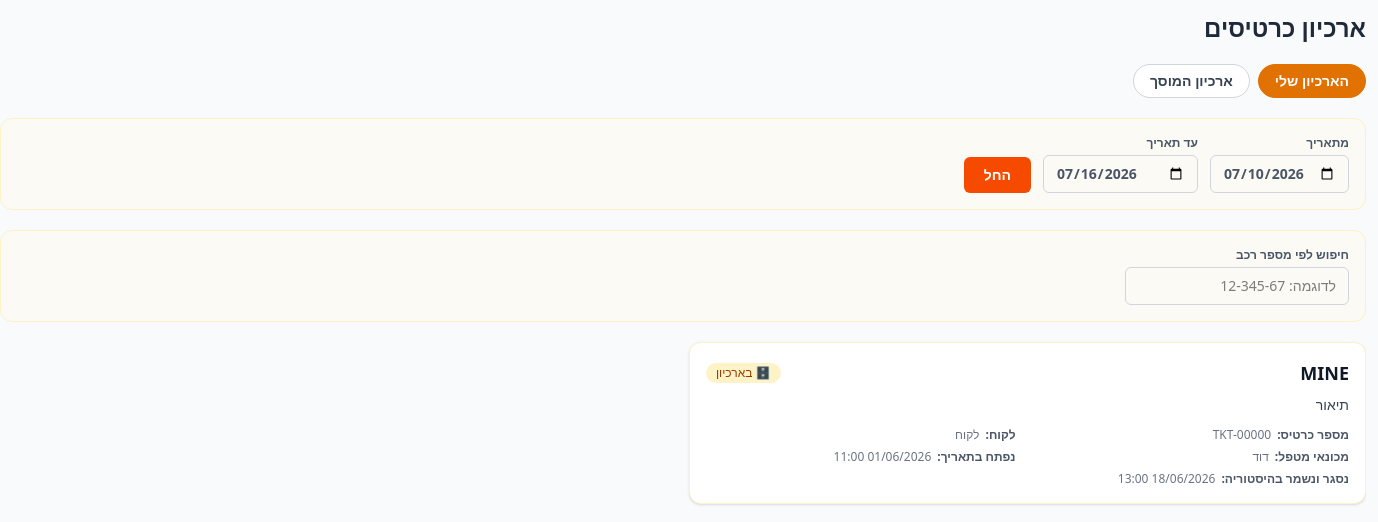
Scenario: MyTicketsPage — role scoping › Manager can switch to the garage archive to see all archived tickets
This screenshot has width=1378, height=522.
Expected: the text "MINE" is shown, [1300,359,1349,387]
Click the tab "ארכיון המוסך": (1191, 81) [1133,64,1250,98]
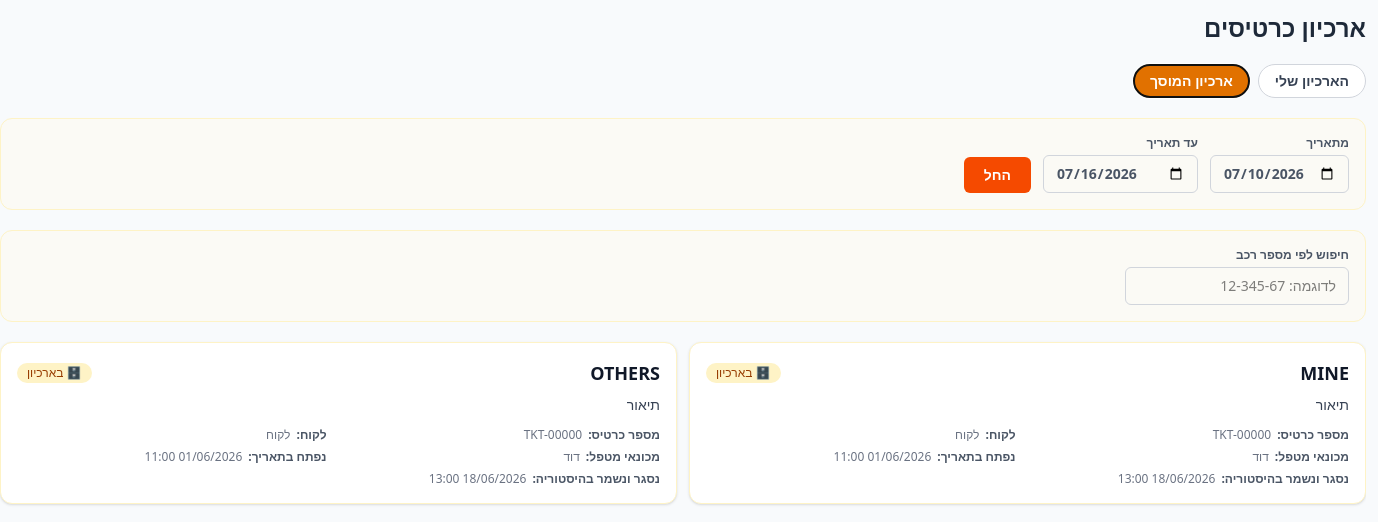
Expected: the text "MINE" is shown, [1300,359,1349,387]
Expected: the text "OTHERS" is shown, [590,359,660,387]
